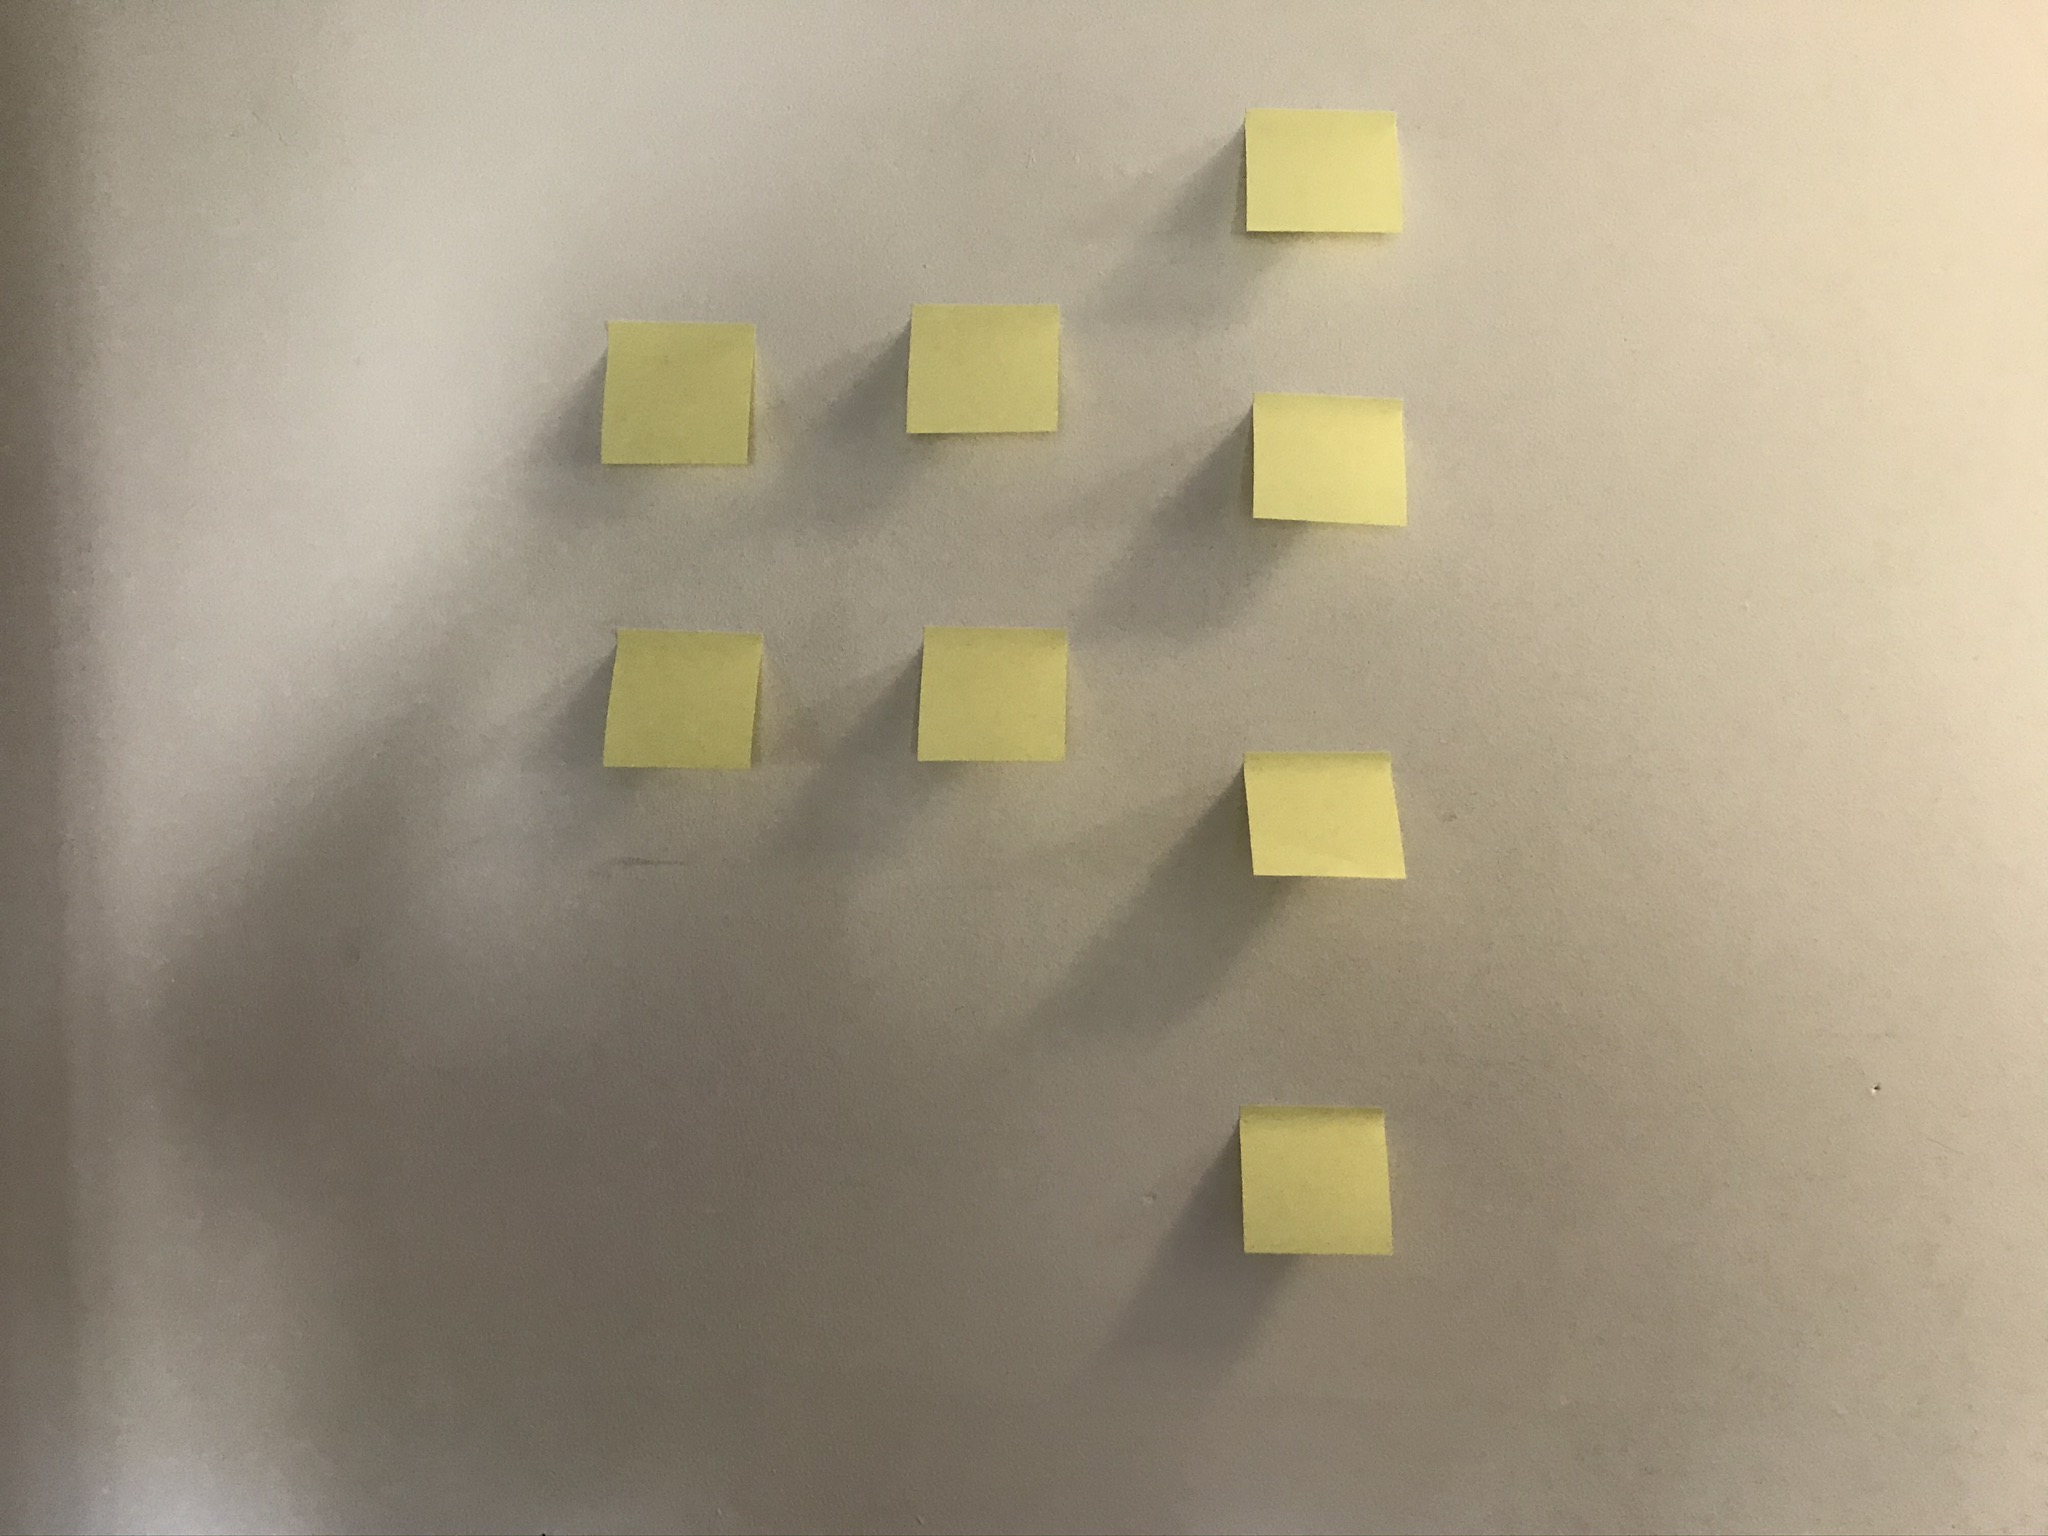sticky: (1235, 1100, 1393, 1255), (598, 626, 763, 770), (1248, 390, 1409, 534), (1240, 745, 1408, 881), (601, 319, 755, 465), (913, 623, 1069, 765), (906, 295, 1063, 436), (1247, 105, 1401, 237)
